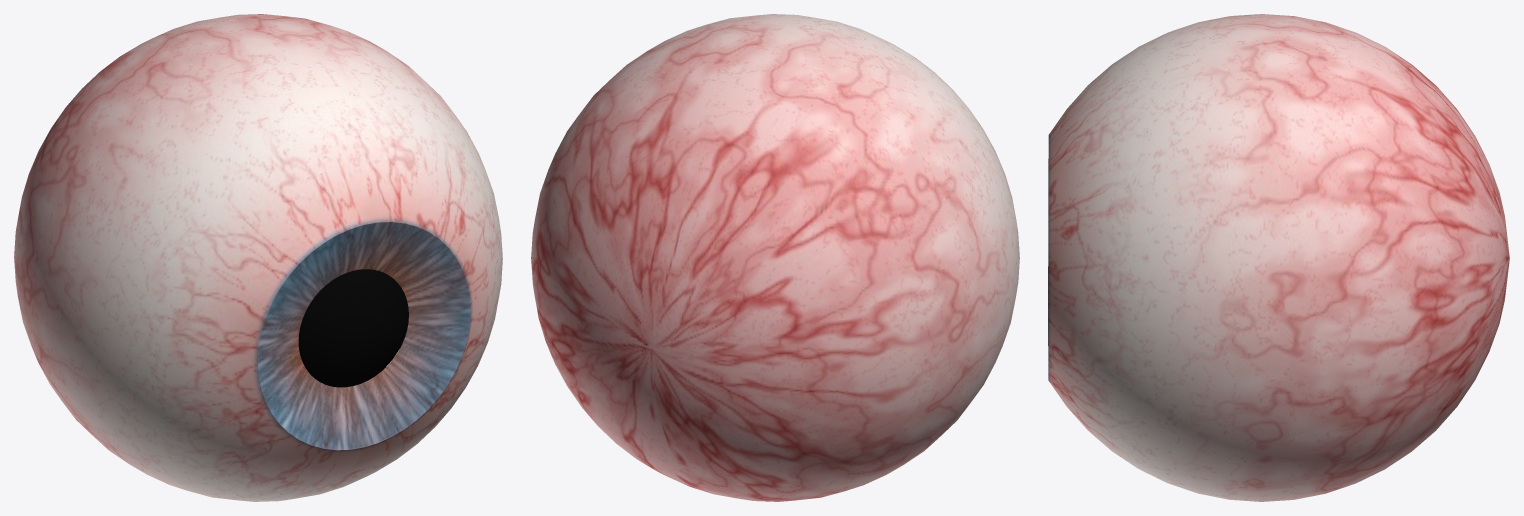
Rendered from eye.glb.
3 views of the same model, side by side, from view 1: azimuth 30°, elevation 25°; view 2: azimuth 150°, elevation 25°; view 3: azimuth 270°, elevation 25° (orthographic).
Visible parts, largest first — view 1: Subdivision Surface; view 2: Subdivision Surface; view 3: Subdivision Surface.
Part boxes in pixels (x1=…): Subdivision Surface: x1=14, y1=14, x2=502, y2=501; Subdivision Surface: x1=531, y1=14, x2=1019, y2=501; Subdivision Surface: x1=1048, y1=14, x2=1509, y2=501.
Bounding box in the file's own units: 23.59 × 23.59 × 22.3.
1 material, 1 textured.
